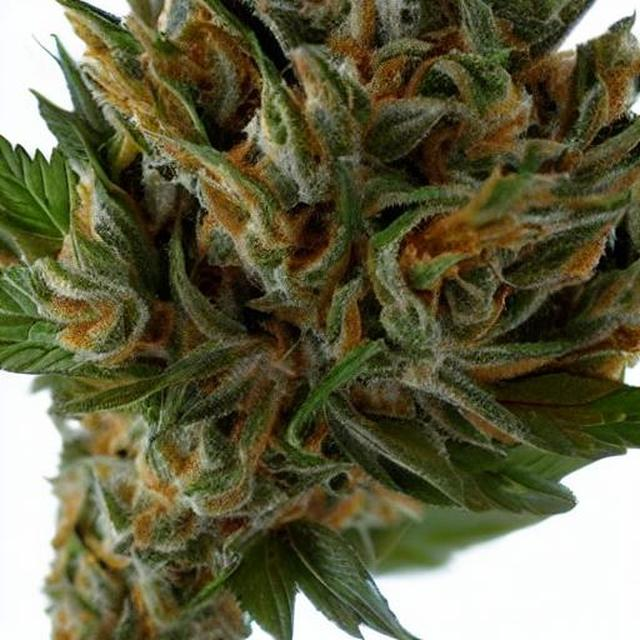Marijuana Plant: (0, 65, 639, 639)
